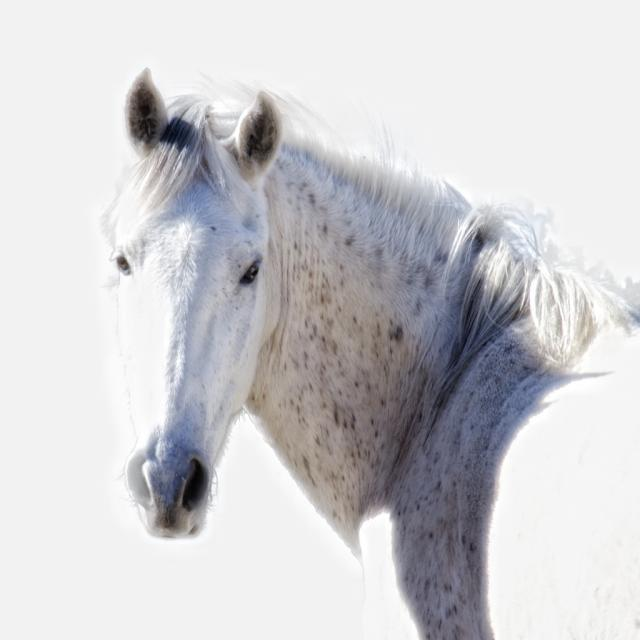Horse: (98, 67, 640, 639)
